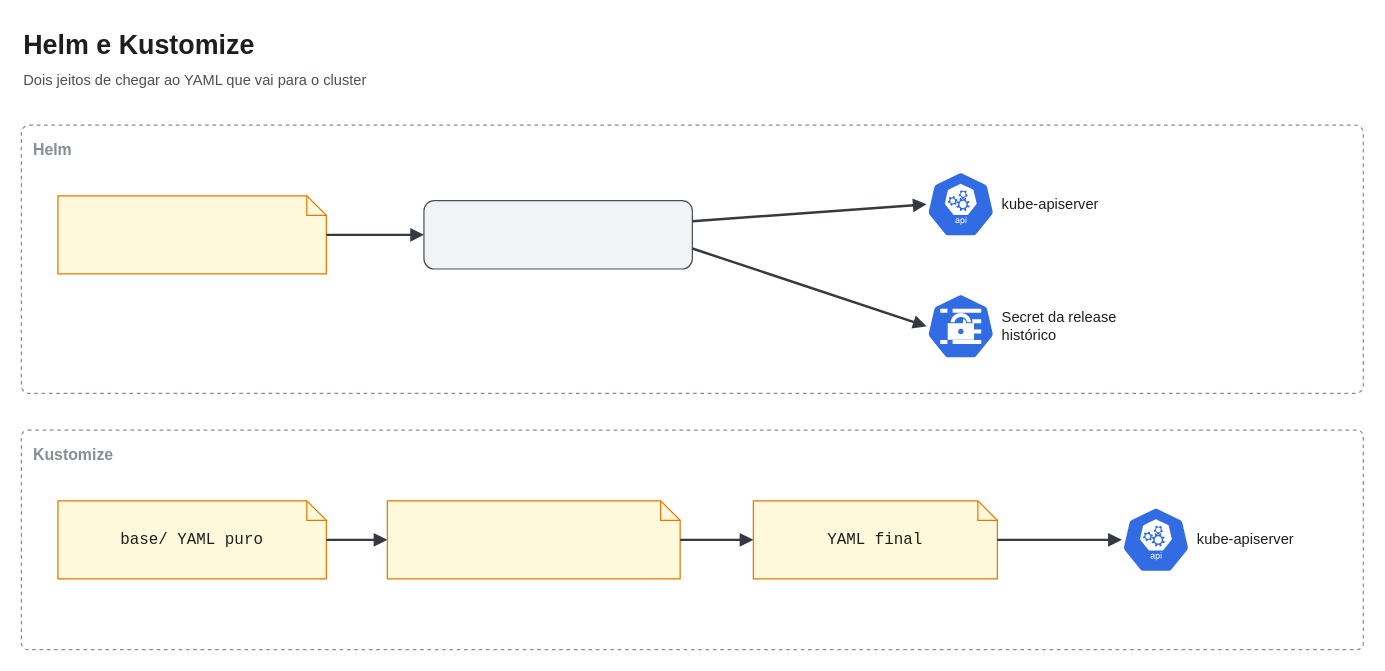
The diagram is 1385 pixels wide and 671 high, and some of its shapes have lost their labels. The centre of each missing label's shape, as x and y in pixels:
Chart + values: point (191, 234)
helm renderiza: point (557, 234)
kustomization.yaml overlay: point (533, 539)
